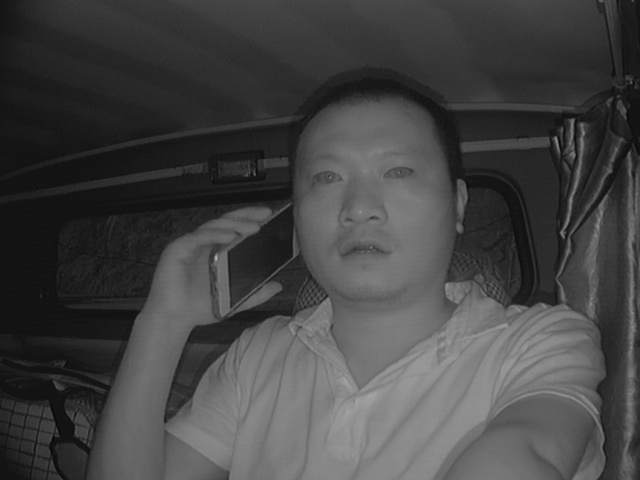hand: (148, 205, 281, 324)
